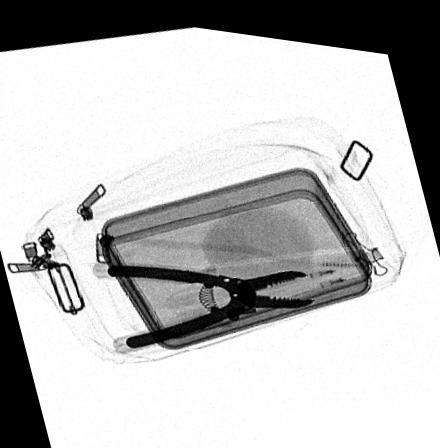Pliers: (105, 258, 314, 346)
